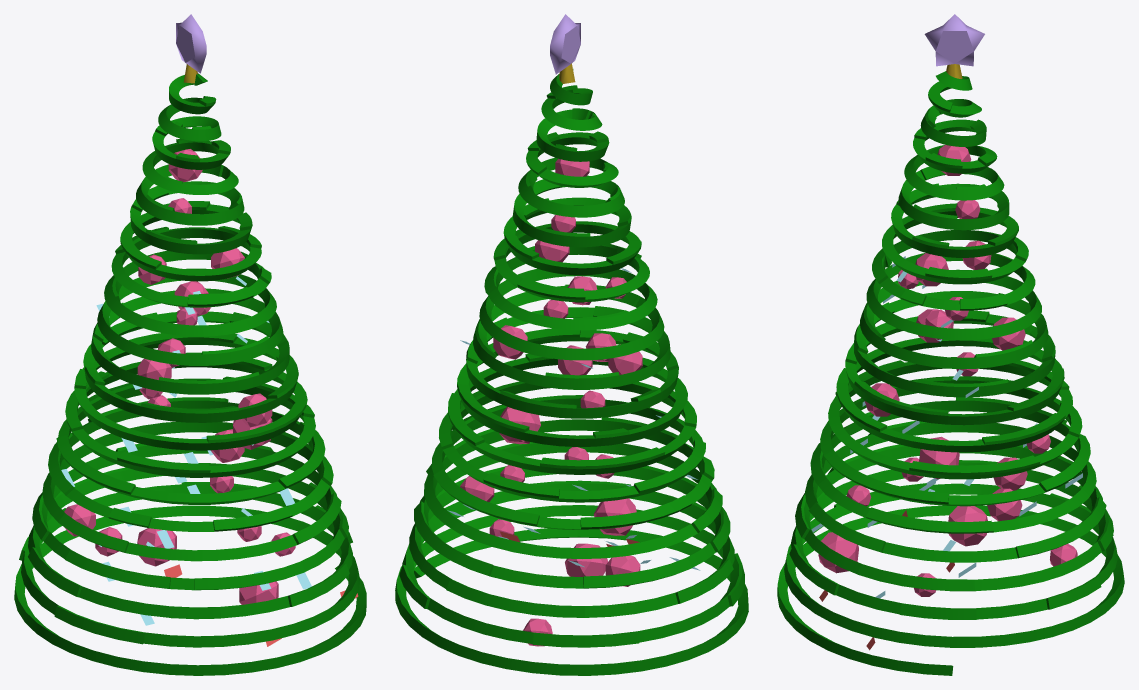
The model's file is Tree.obj.
3 renders of one model, left to right at view 1: azimuth 30°, elevation 25°; view 2: azimuth 150°, elevation 25°; view 3: azimuth 270°, elevation 25°, orthographic. The views are drawn at different scales.
Parts seen in each view (by area): view 1: Helix002, Object006, Cylinder007, Hedra065, Hedra062, Hedra060, Hedra049; view 2: Helix002, Object006, Cylinder007, Hedra062, Hedra065, Hedra063, Hedra060, Hedra051, Hedra048, Hedra052, Hedra049, Hedra053; view 3: Helix002, Object006, Cylinder007, Hedra065, Hedra062, Hedra050, Hedra063, Hedra048, Hedra052, Hedra051.
Part boxes in pixels (<box>): Helix002: <box>14,73,366,675</box>; Object006: <box>19,96,352,644</box>; Cylinder007: <box>176,14,206,73</box>; Hedra065: <box>137,528,176,566</box>; Hedra062: <box>239,581,278,604</box>; Hedra060: <box>137,358,171,379</box>; Hedra049: <box>238,393,272,427</box>; Helix002: <box>395,69,748,675</box>; Object006: <box>399,85,744,647</box>; Cylinder007: <box>550,14,580,74</box>; Hedra062: <box>593,498,636,535</box>; Hedra065: <box>565,543,607,576</box>; Hedra063: <box>499,406,540,444</box>; Hedra060: <box>608,344,642,374</box>; Hedra051: <box>605,555,640,586</box>; Hedra048: <box>493,325,527,359</box>; Hedra052: <box>535,240,569,262</box>; Hedra049: <box>558,345,592,375</box>; Hedra053: <box>555,158,589,176</box>; Helix002: <box>777,71,1124,675</box>; Object006: <box>789,93,1113,619</box>; Cylinder007: <box>924,14,984,66</box>; Hedra065: <box>948,506,987,546</box>; Hedra062: <box>818,532,858,573</box>; Hedra050: <box>987,488,1022,521</box>; Hedra063: <box>919,436,959,479</box>; Hedra048: <box>992,317,1025,350</box>; Hedra052: <box>915,253,948,286</box>; Hedra051: <box>993,457,1027,490</box>.
Size of the model in its own units: 21.07 by 38.99 by 20.86.
